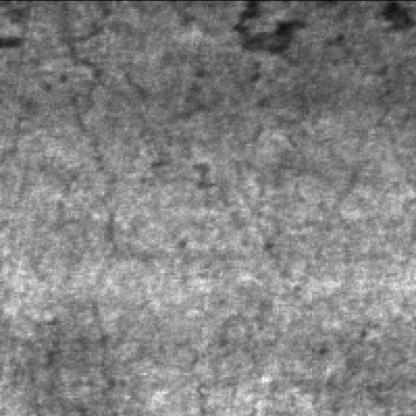crazing: (62, 2, 225, 264)
